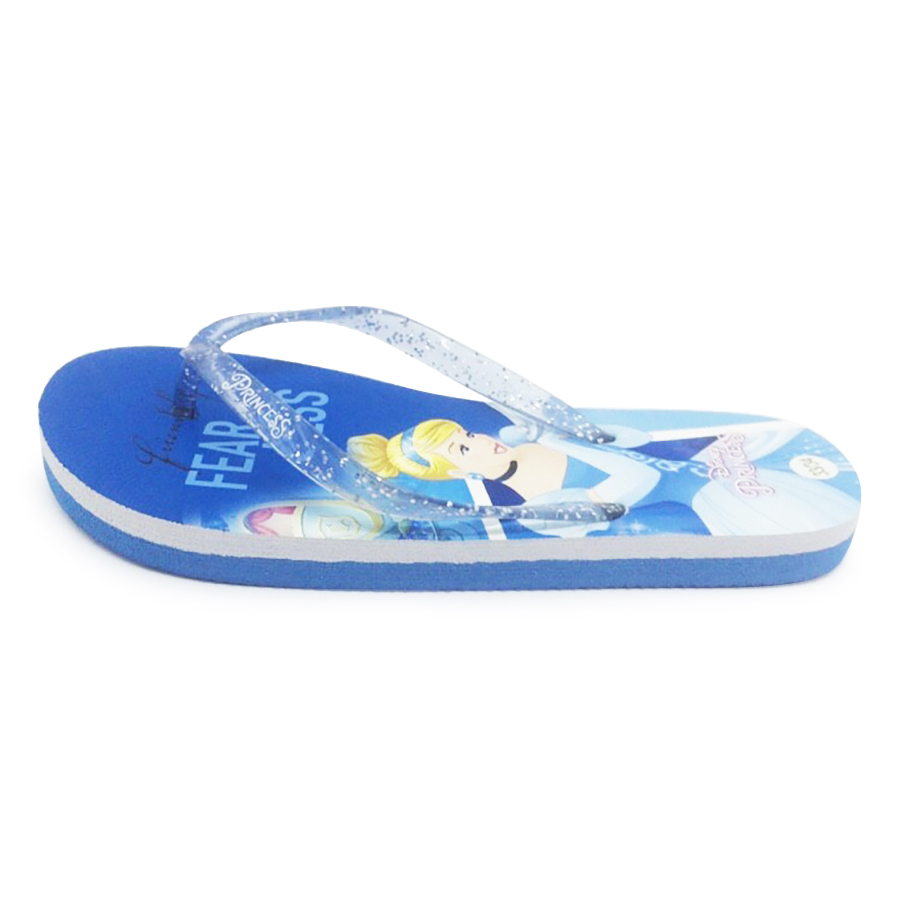Disney: (698, 440, 737, 489)
